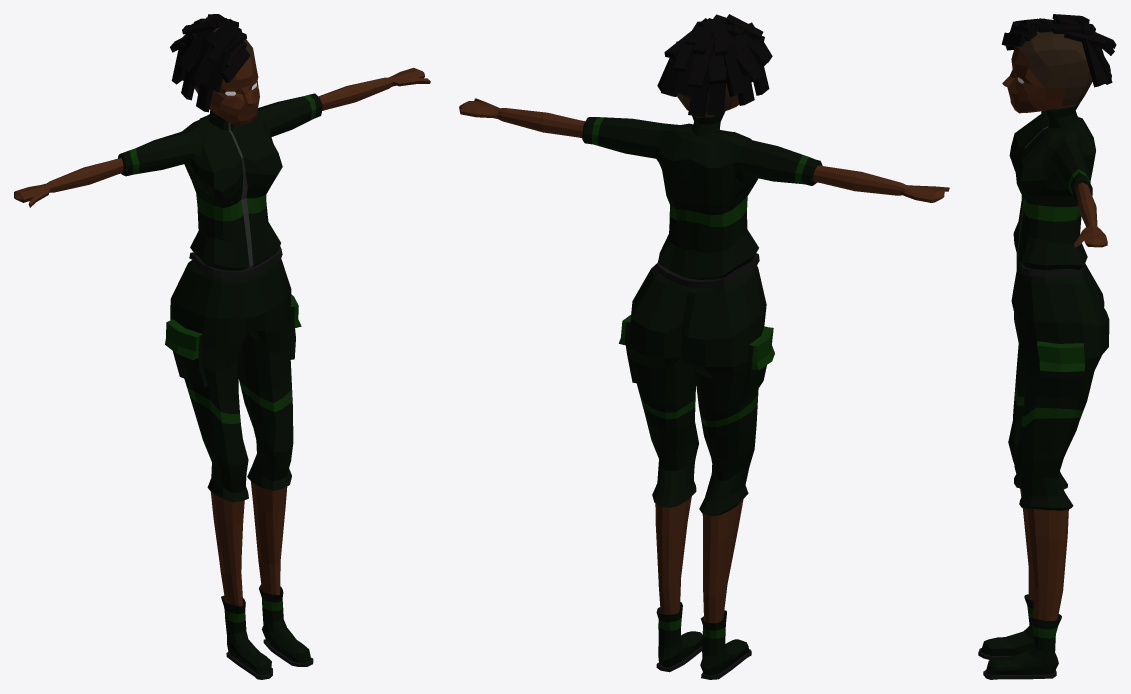
Rendered from personaje_02.FBX.
3 renders of one model, left to right at view 1: azimuth 30°, elevation 25°; view 2: azimuth 150°, elevation 25°; view 3: azimuth 270°, elevation 25°, orthographic. The views are drawn at different scales.
Parts seen in each view (by area): view 1: Box048; view 2: Box048; view 3: Box048.
Boxes of the visible parts, x1,y1,x2,y2 form: Box048: (14,14,430,679); Box048: (459,14,949,679); Box048: (978,14,1116,679).
Size of the model in its own units: 101 by 140 by 27.78.
